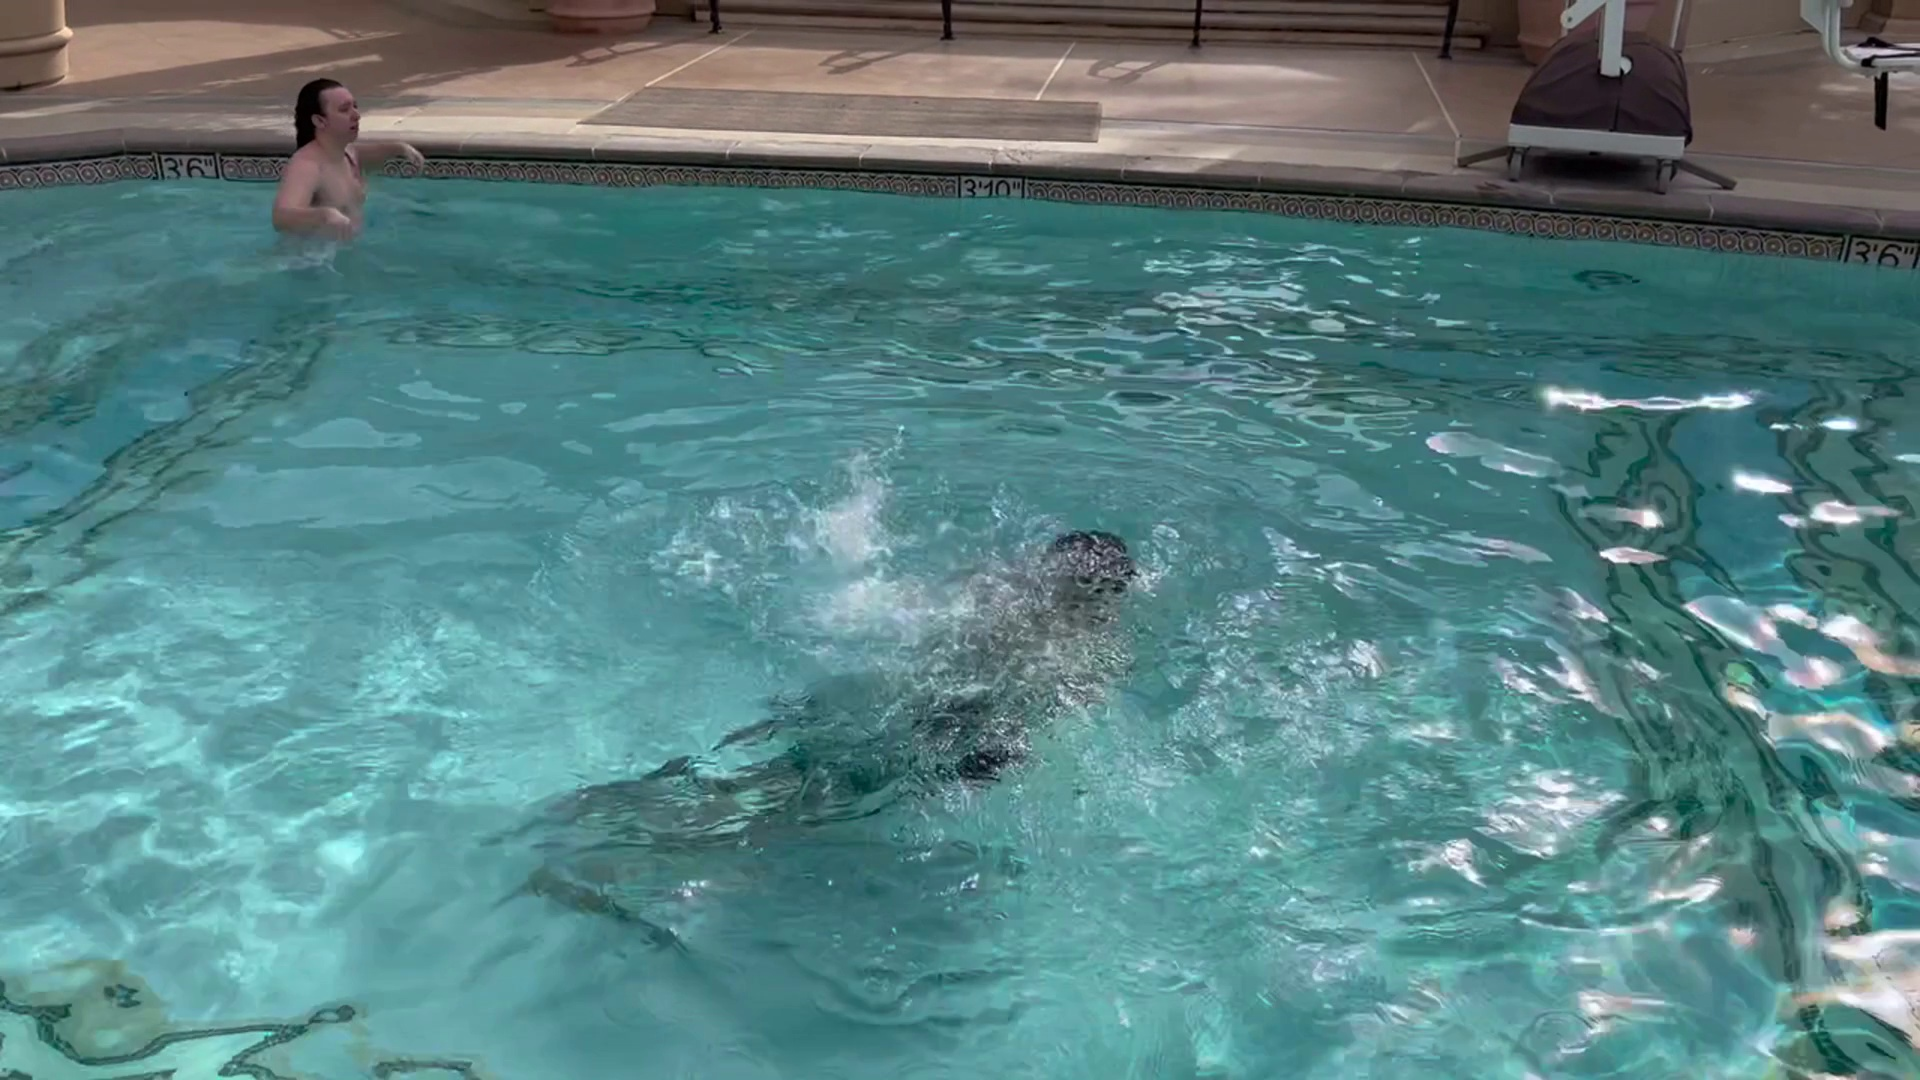danger: (753, 433, 1182, 680)
